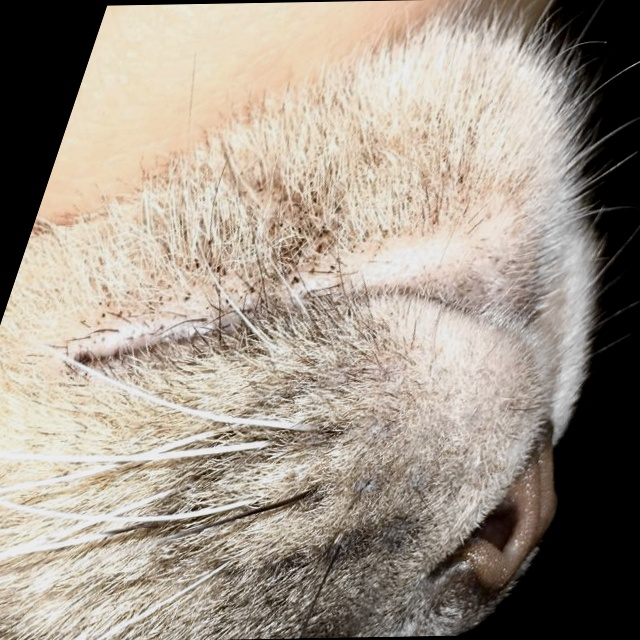acne: (71, 177, 374, 323)
